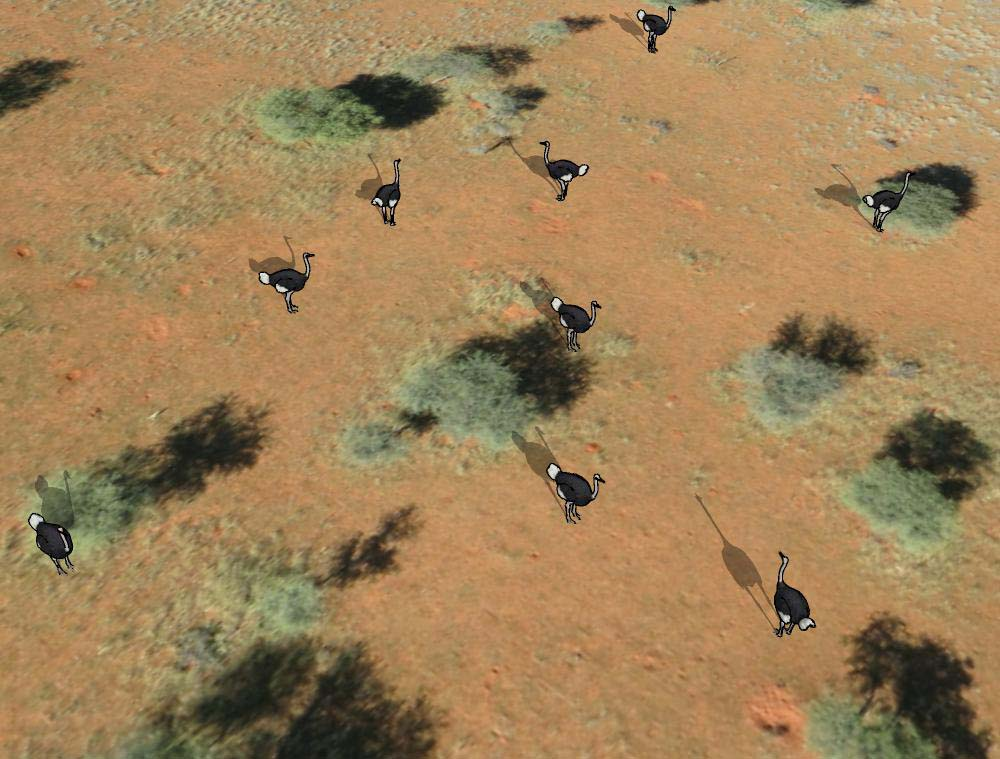ostrich: (772, 550, 820, 643), (544, 463, 607, 526), (855, 169, 914, 235), (257, 250, 317, 313), (27, 509, 79, 574), (547, 291, 600, 354), (537, 137, 587, 202), (369, 154, 404, 230), (633, 4, 678, 51)
